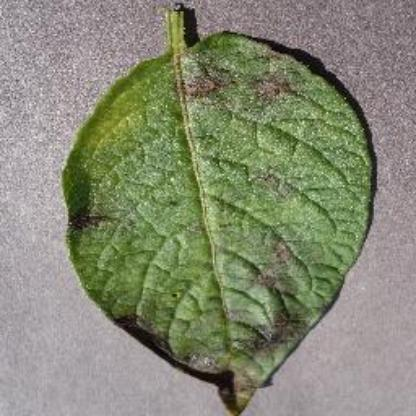Late-Blight: (48, 4, 378, 416)
